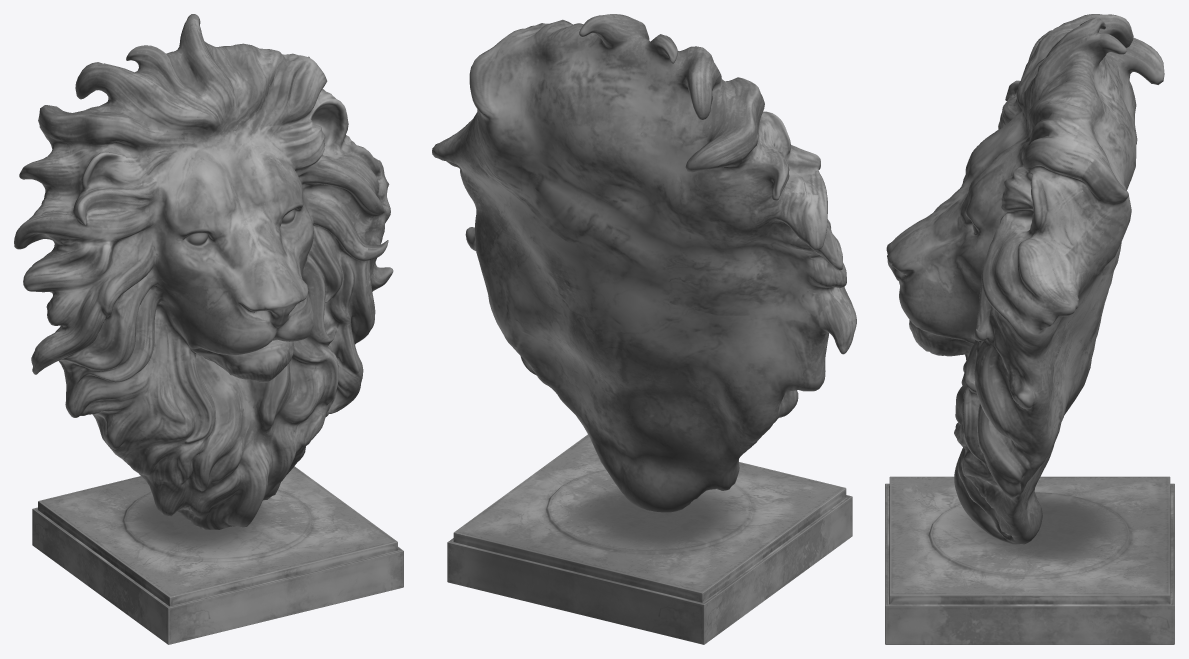
Rendered from lion_head_2k.gltf.
3 views of the same model, side by side, from view 1: azimuth 30°, elevation 25°; view 2: azimuth 150°, elevation 25°; view 3: azimuth 270°, elevation 25° (orthographic). The views are drawn at different scales.
Visible parts, largest first — view 1: lion_head; view 2: lion_head; view 3: lion_head.
Part boxes in pixels (x1=…): lion_head: x1=14, y1=14, x2=403, y2=644; lion_head: x1=432, y1=14, x2=856, y2=644; lion_head: x1=885, y1=14, x2=1174, y2=644.
Size of the model in its own units: 0.3208 by 0.4364 by 0.2066.
1 material, 1 textured.
